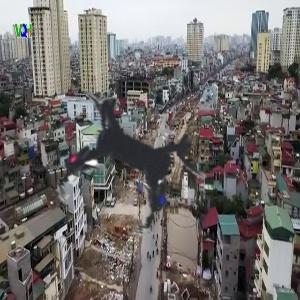drone: (3, 27, 271, 295)
